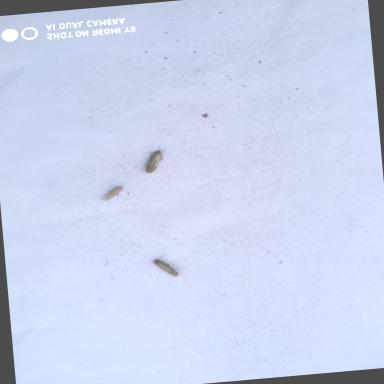pbw: (149, 252, 185, 282), (138, 148, 166, 177), (100, 185, 126, 203)
